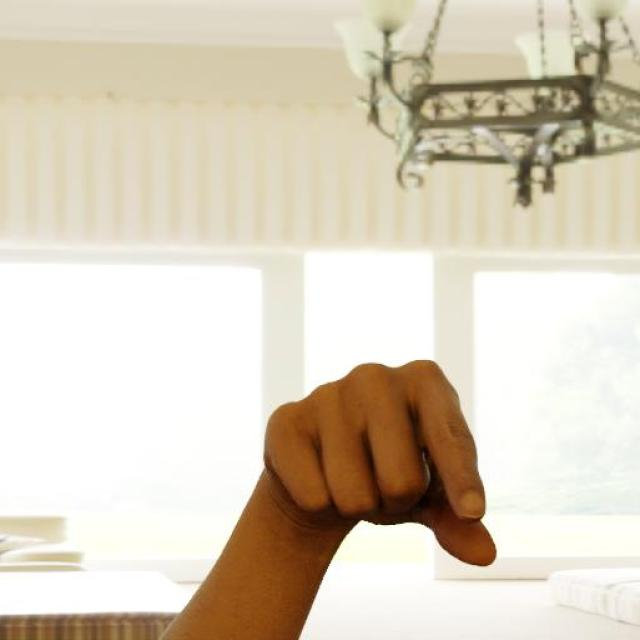Q: (254, 352, 503, 572)
